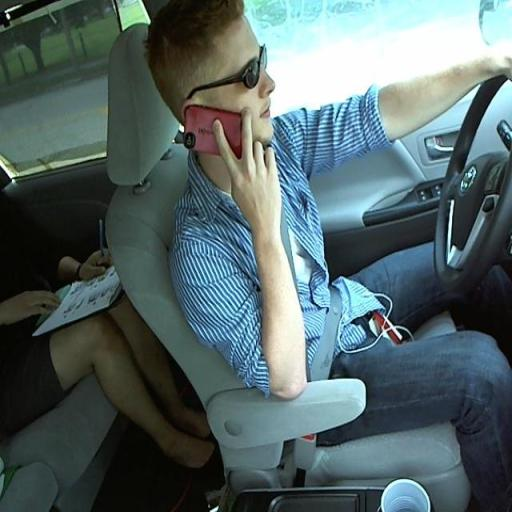talking_phone: (153, 14, 512, 357)
